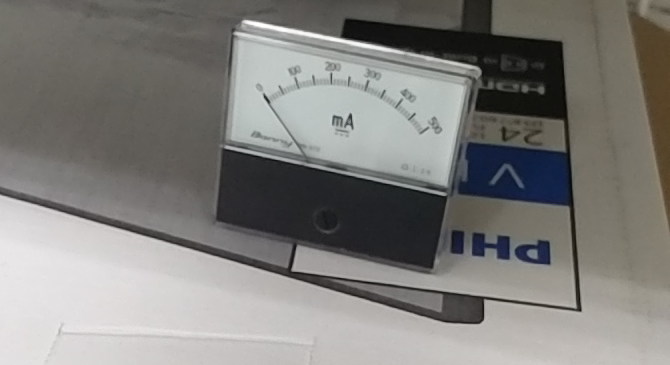MilliAmp_Meter: (229, 26, 466, 194)
